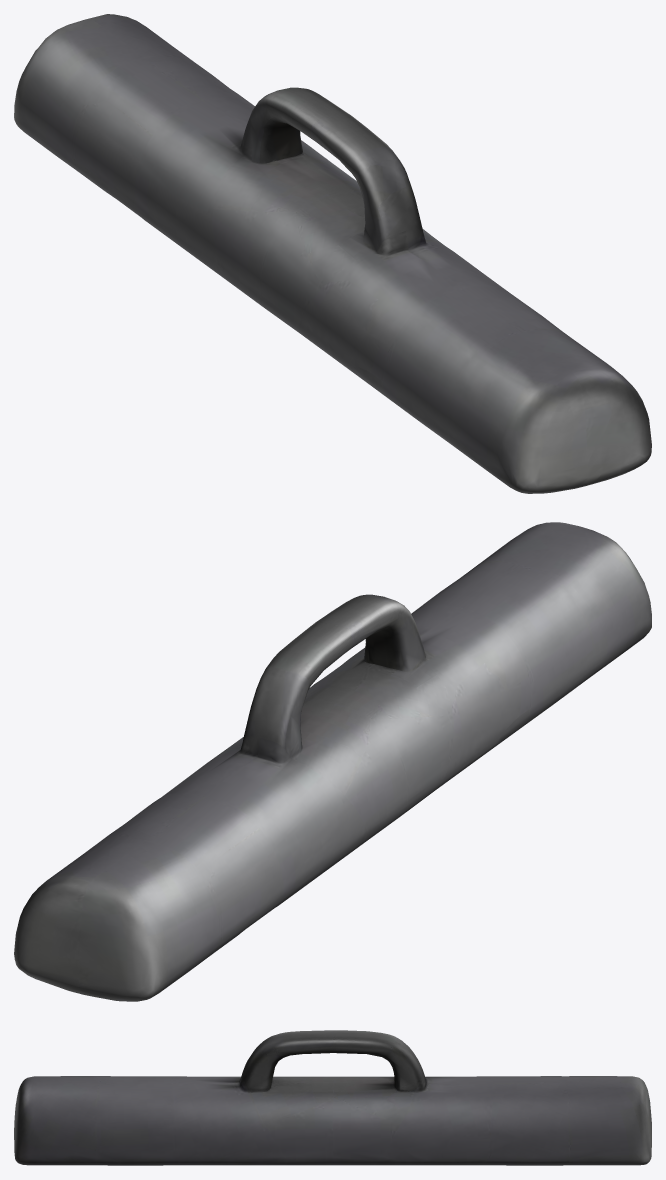
Rendered from montante.glb.
3 views of the same model, one above another, from view 1: azimuth 30°, elevation 25°; view 2: azimuth 150°, elevation 25°; view 3: azimuth 270°, elevation 25° (orthographic). The views are drawn at different scales.
Visible parts, largest first — view 1: tripo_node_8e6b2ca6-7b9e-4259-831e-c29cd65a6abf; view 2: tripo_node_8e6b2ca6-7b9e-4259-831e-c29cd65a6abf; view 3: tripo_node_8e6b2ca6-7b9e-4259-831e-c29cd65a6abf.
Part boxes in pixels (left/top/right/bottom): tripo_node_8e6b2ca6-7b9e-4259-831e-c29cd65a6abf: left=14, top=14, right=651, bottom=493; tripo_node_8e6b2ca6-7b9e-4259-831e-c29cd65a6abf: left=14, top=522, right=651, bottom=1001; tripo_node_8e6b2ca6-7b9e-4259-831e-c29cd65a6abf: left=14, top=1030, right=651, bottom=1165.
Size of the model in its own units: 0.1673 by 0.2158 by 0.9999.
1 material, 1 textured.
